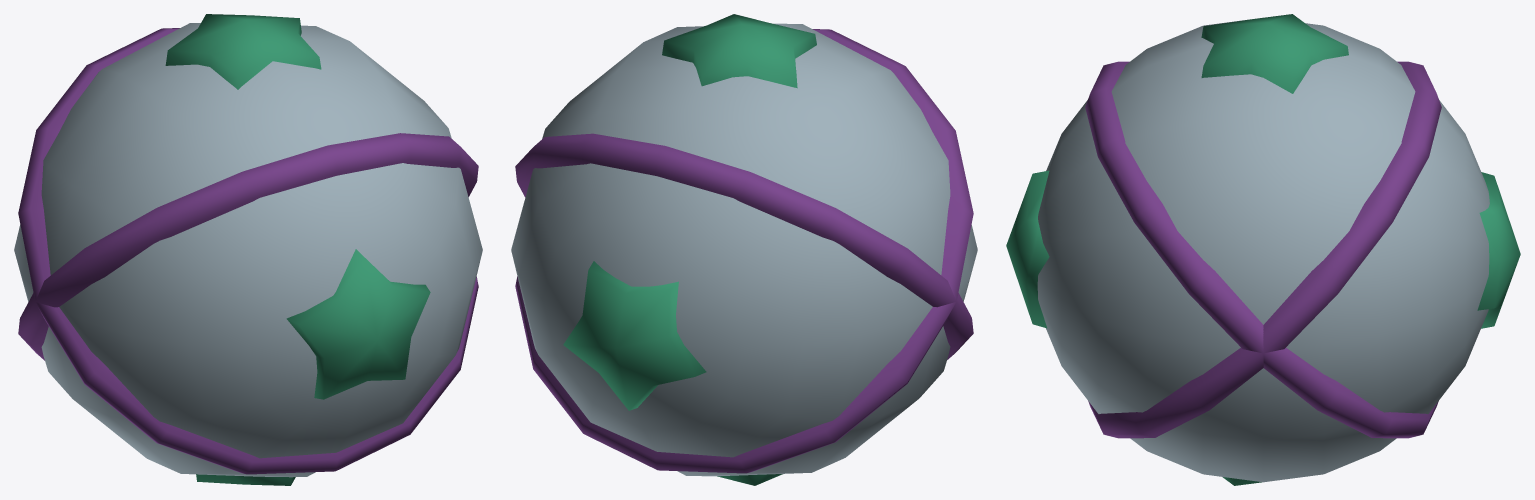
The model's file is crossed-star.fbx.
3 views of the same model, side by side, from view 1: azimuth 30°, elevation 25°; view 2: azimuth 150°, elevation 25°; view 3: azimuth 270°, elevation 25° (orthographic).
Visible parts, largest first — view 1: crossed-start; view 2: crossed-start; view 3: crossed-start.
Part boxes in pixels (box(x1,y1,x2,y2)): crossed-start: box(14, 14, 482, 485); crossed-start: box(511, 14, 977, 485); crossed-start: box(1006, 14, 1520, 485).
Size of the model in its own units: 210 by 215 by 221.
